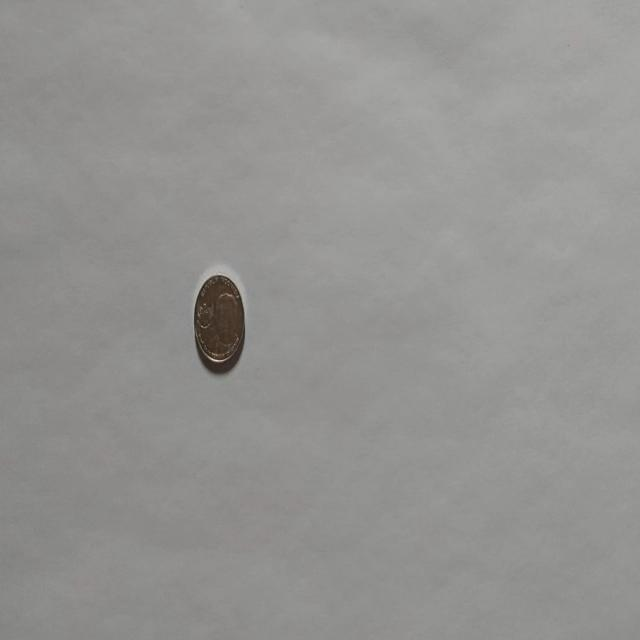seratus rupiah: (192, 272, 245, 370)
